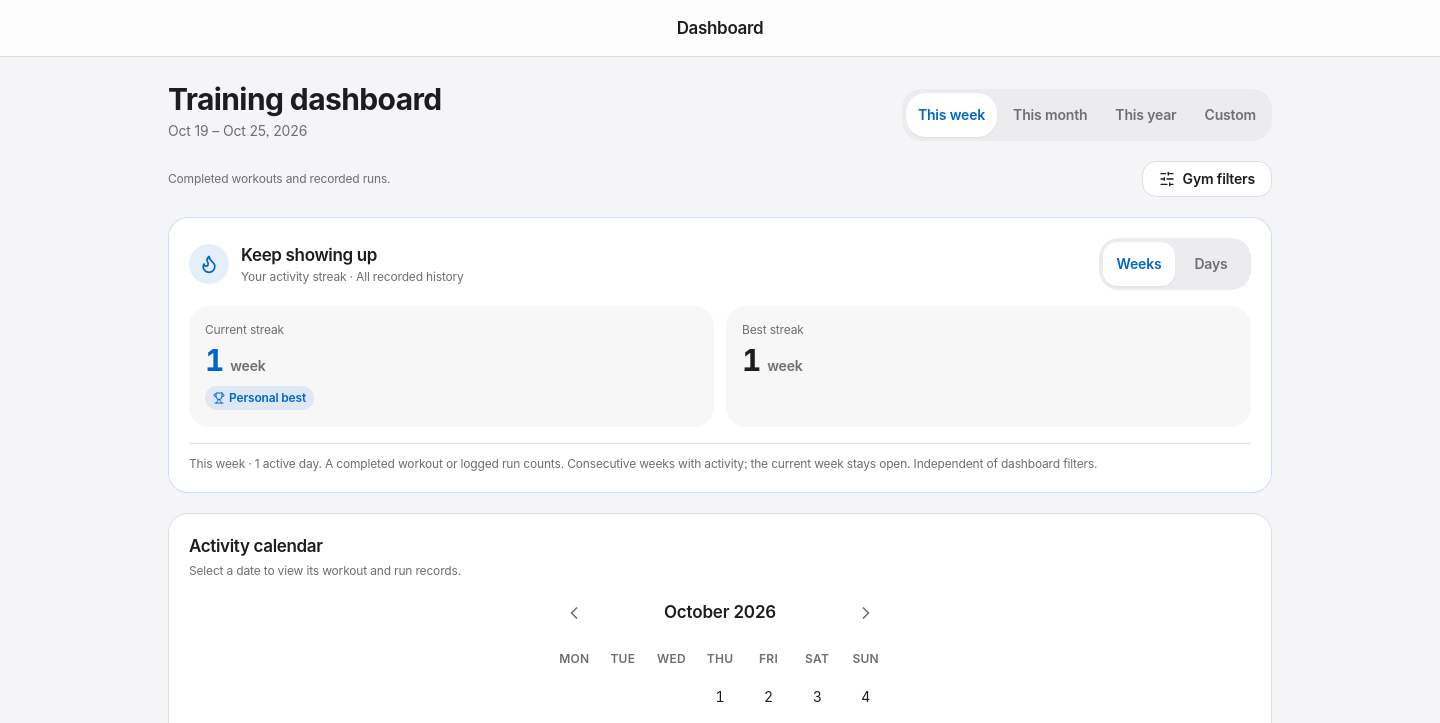
Test case: opens the full category with all configured exercises despite an active exercise filter
Click the button "Gym filters" at (1207,179), box [1142, 161, 1272, 197]
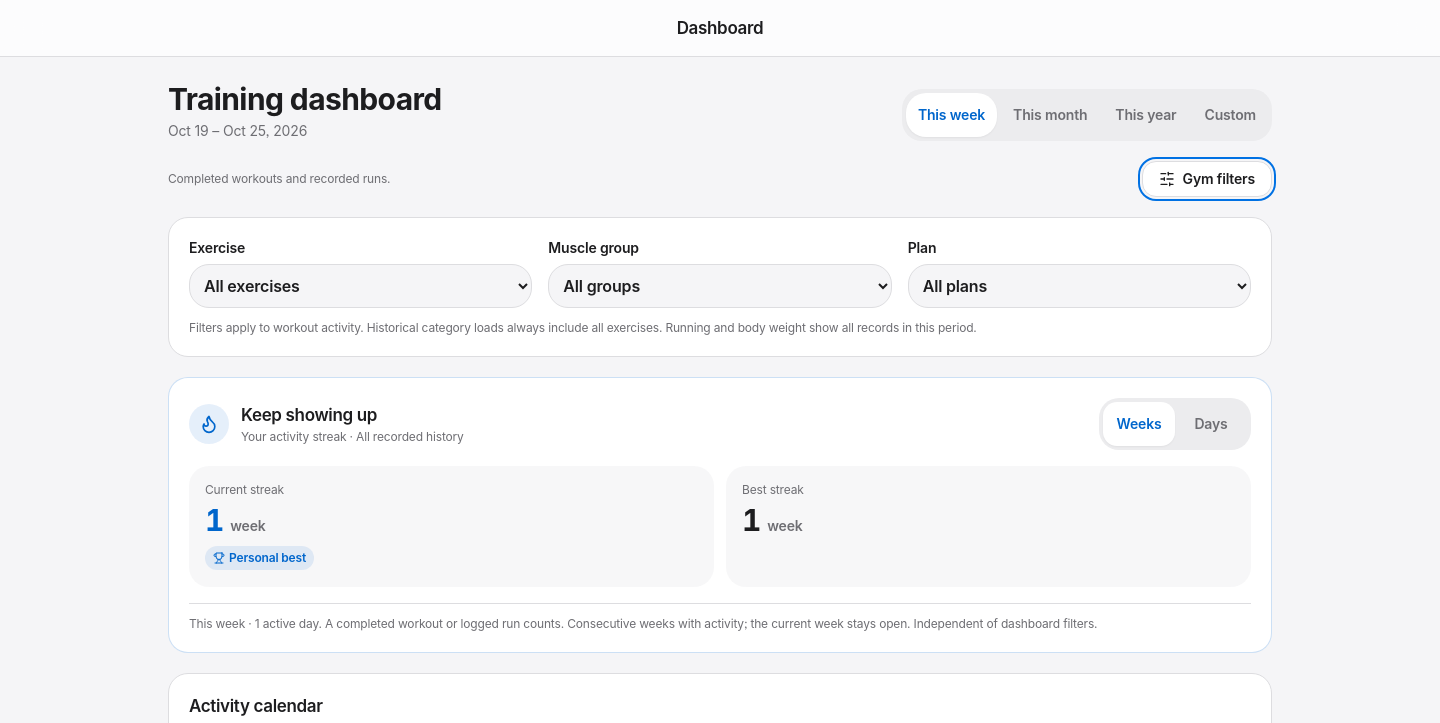
Select "Barbell Curl" in the dropdown labelled "Exercise" at (361,286), box [189, 264, 532, 308]
(page scrolled)
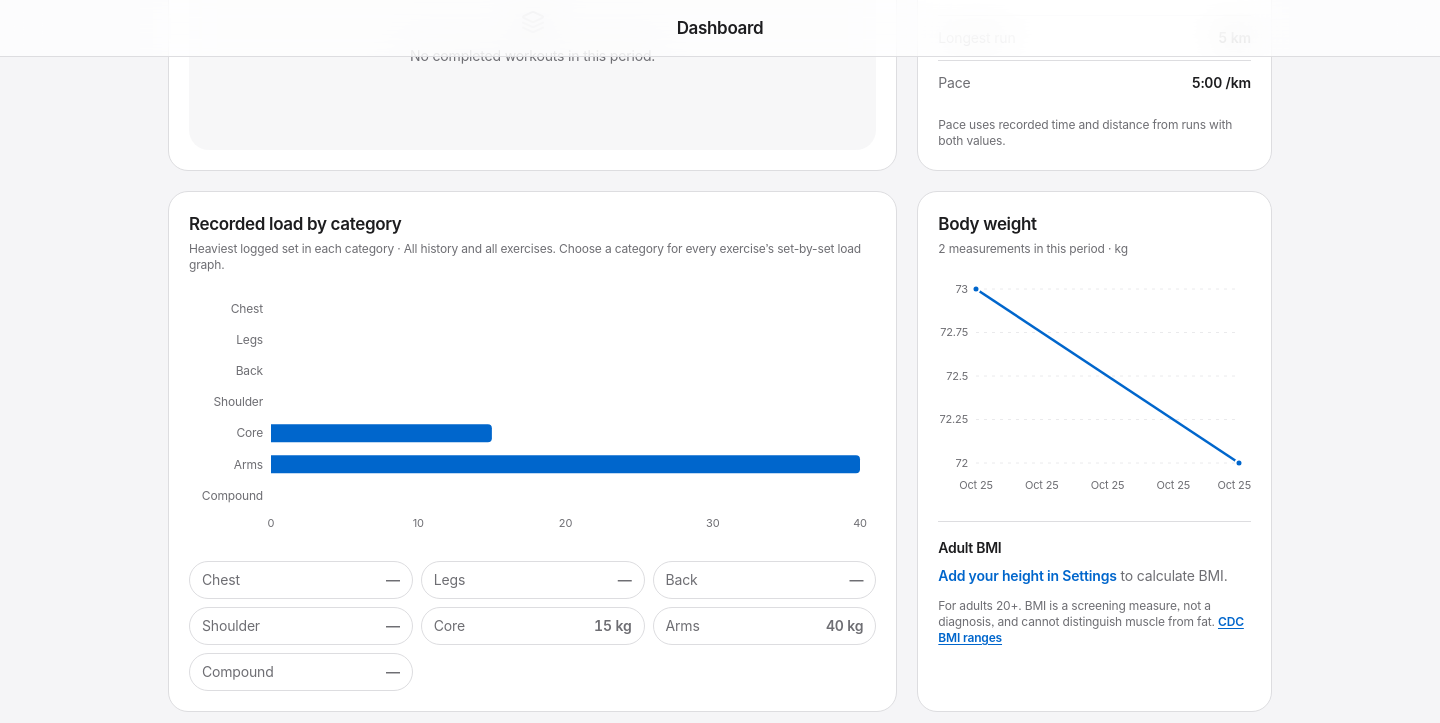
Click the button "Arms 40 kg" at (764,626), box [652, 607, 876, 645]
(page scrolled)
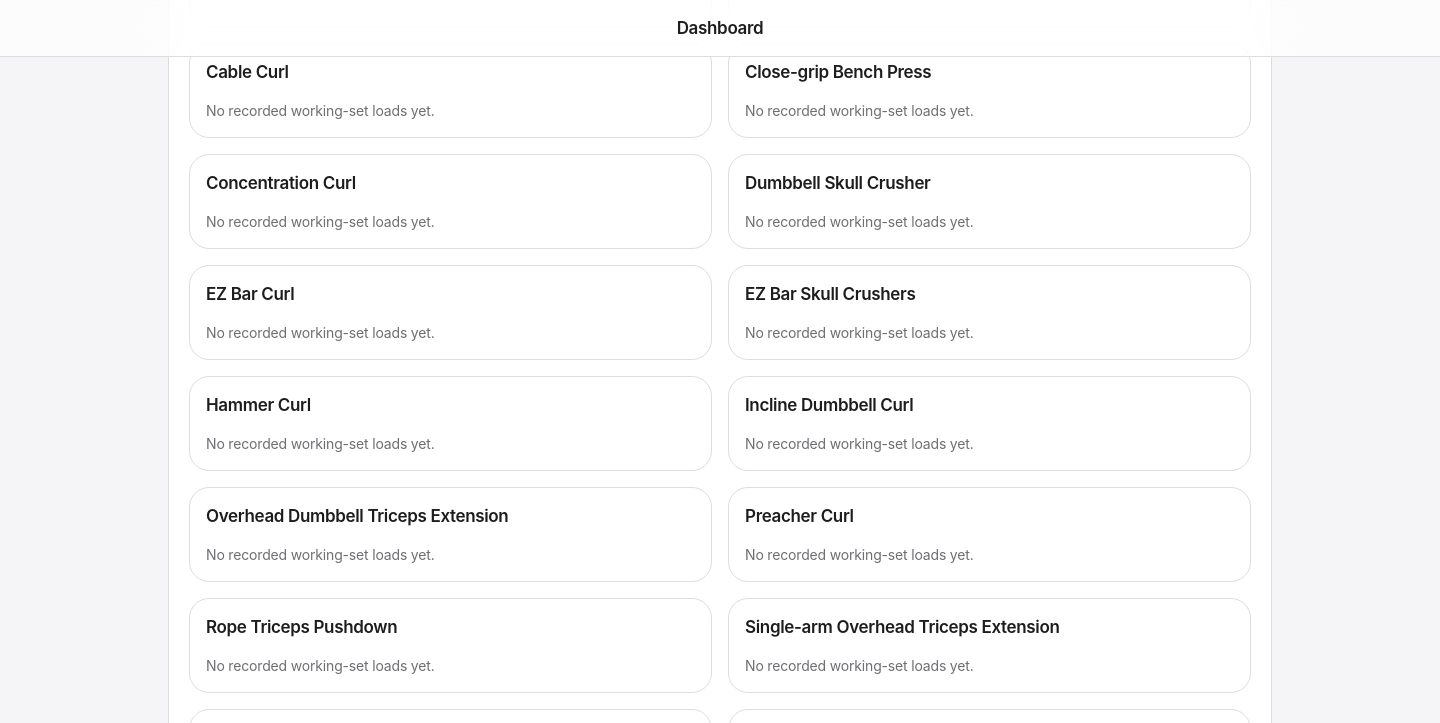
Check: the heading "Hammer Curl" is shown, box [206, 395, 311, 415]
